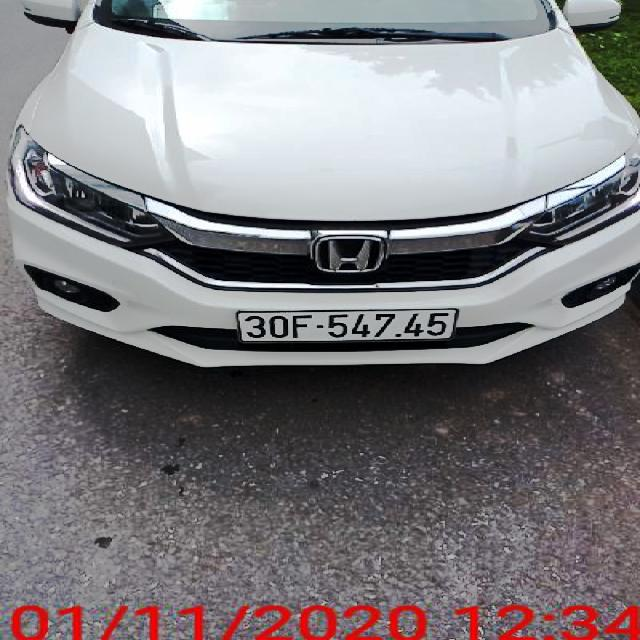license_plate: (241, 310, 461, 345)
